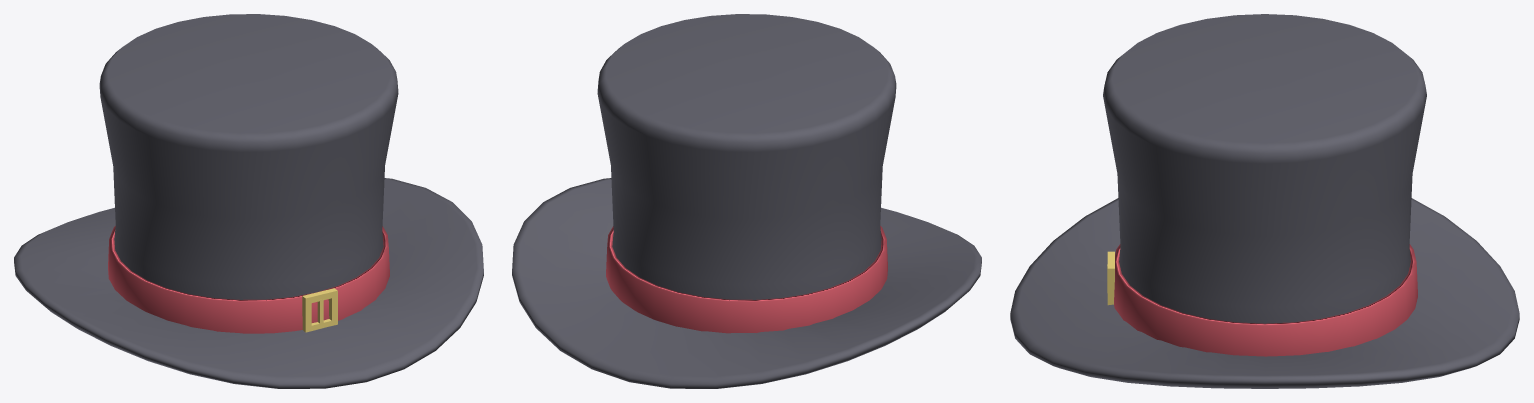
Rendered from tophat.glb.
The picture shows the model from 3 angles, left to right: view 1: azimuth 30°, elevation 25°; view 2: azimuth 150°, elevation 25°; view 3: azimuth 270°, elevation 25°; orthographic projection. The views are drawn at different scales.
Visible parts, largest first — view 1: Cartola; view 2: Cartola; view 3: Cartola.
Boxes of the visible parts, bbox=[...] form: Cartola: bbox=[14, 14, 483, 388]; Cartola: bbox=[512, 14, 981, 388]; Cartola: bbox=[1010, 14, 1519, 388].
Size of the model in its own units: 1.65 by 0.8711 by 1.65.
